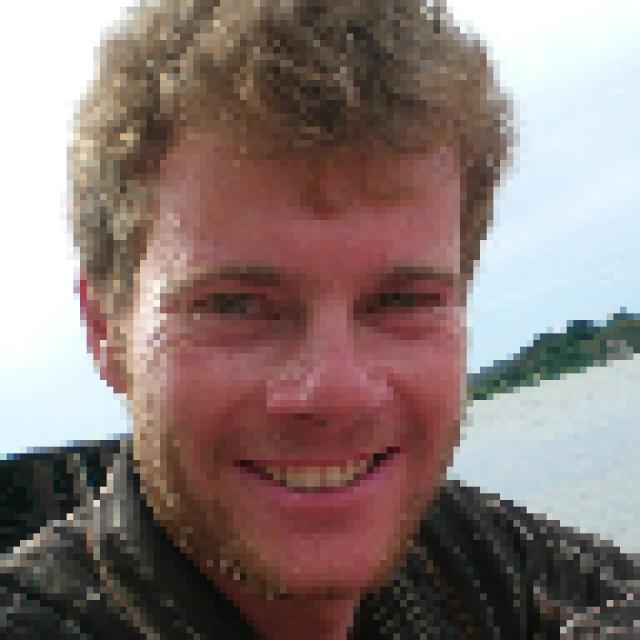happy: (94, 23, 519, 640)
